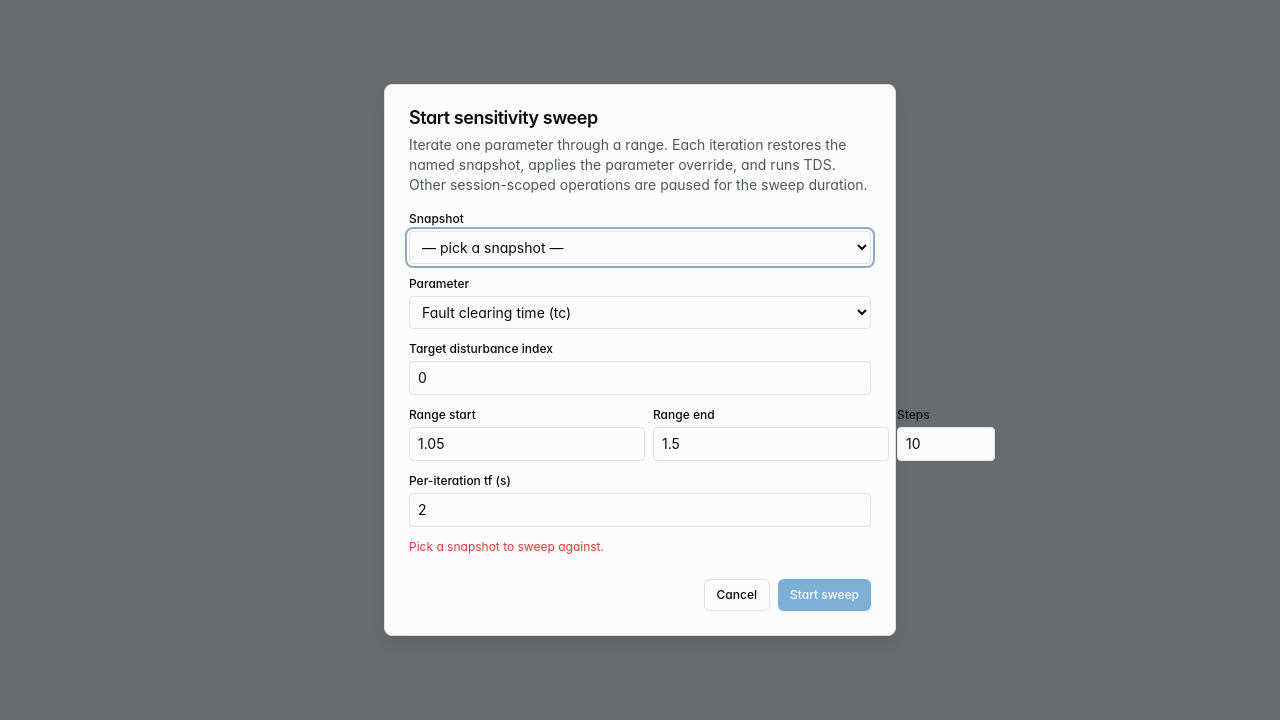
it: <SweepDialog /> — confirm flow › surfaces a 409 sweep-already-running inline
This screenshot has width=1280, height=720.
Select "snap-A (1 disturbances)" in the dropdown with test id "sweep-dialog-snapshot" at x=640, y=248, box [409, 231, 871, 264]
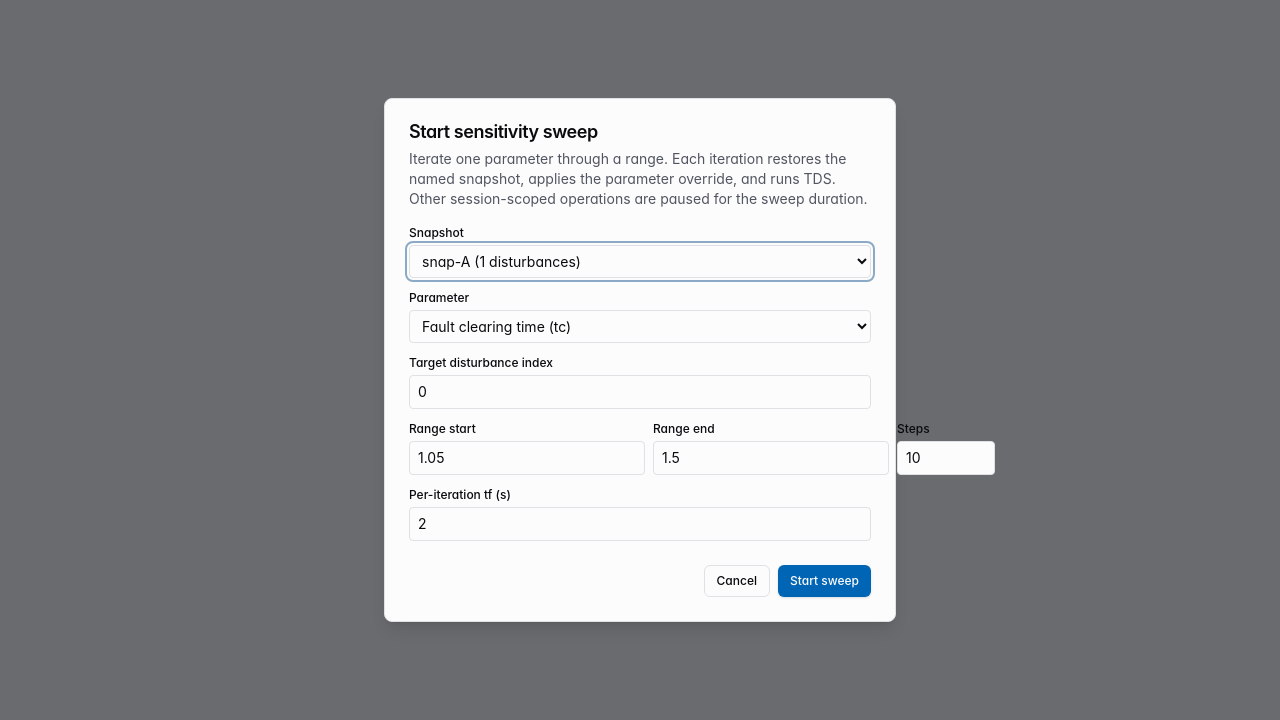
Check: the button with test id "sweep-dialog-confirm" is enabled
Click the button with test id "sweep-dialog-confirm".
click(824, 581)  # box [778, 565, 871, 597]
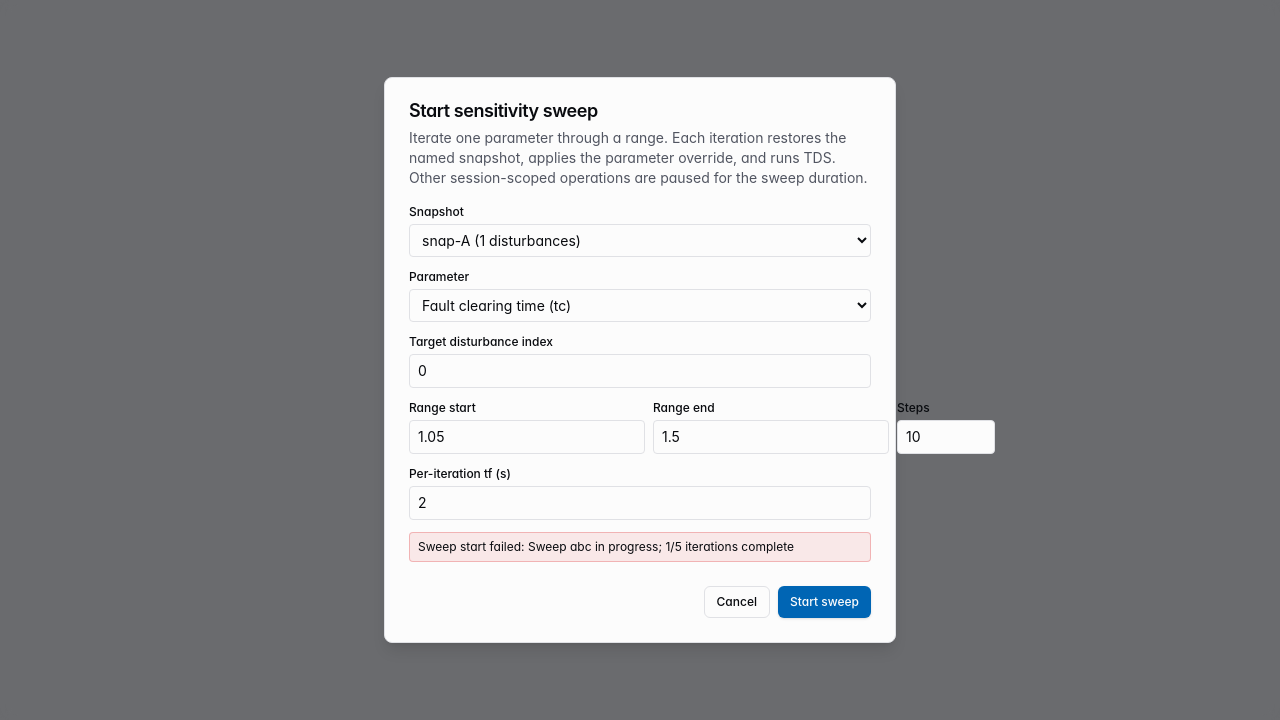
Check: the message with test id "sweep-dialog-error" shows "Sweep abc in progress", box [418, 539, 794, 554]
